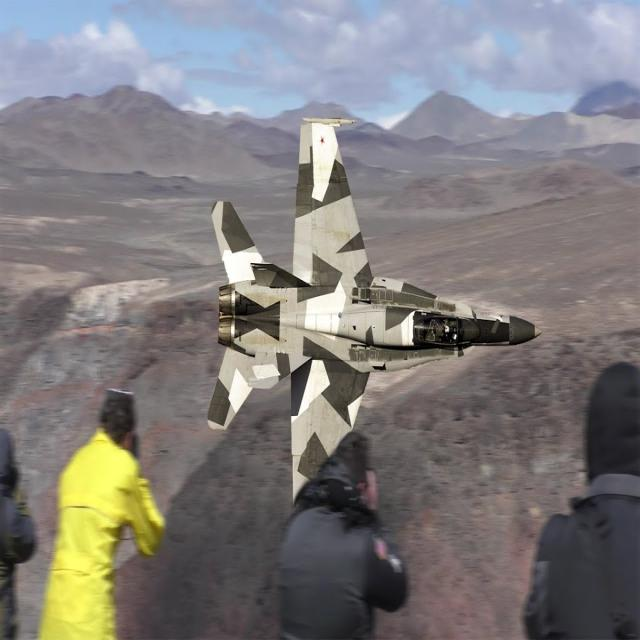MIL_Plane: (206, 117, 542, 503)
